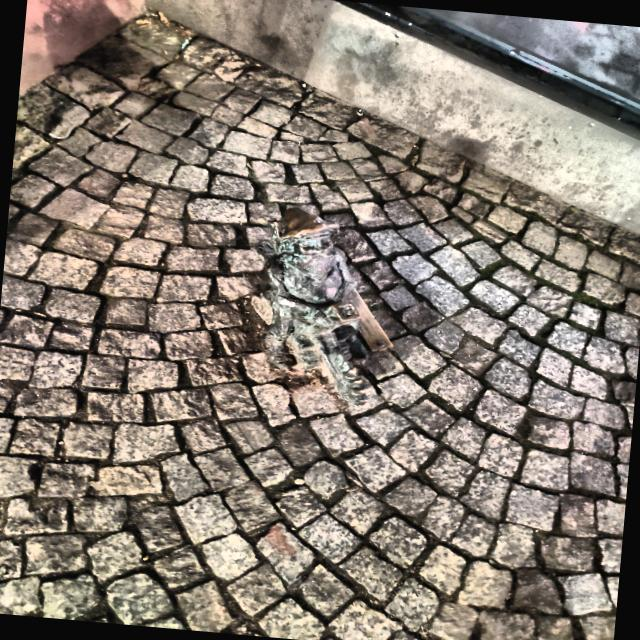Automatek: (255, 206, 392, 406)
